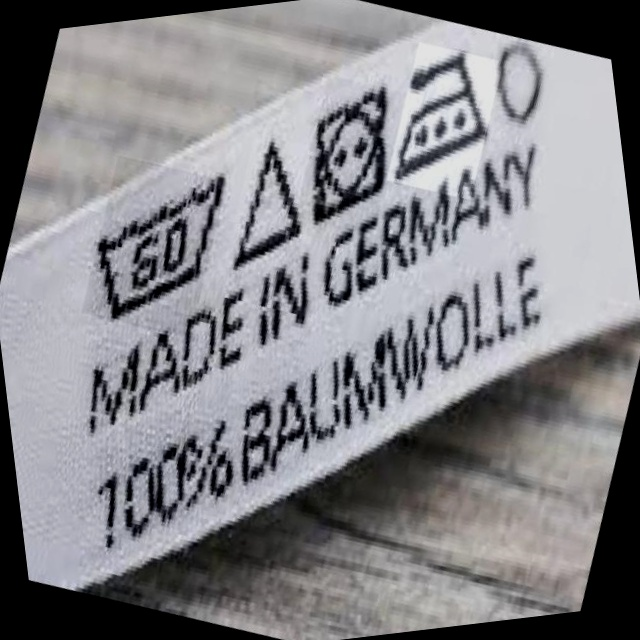60C: (74, 169, 242, 317)
bleach: (224, 134, 310, 269)
iron_high: (384, 44, 496, 181)
tumble_dry_medium: (299, 82, 401, 220)
